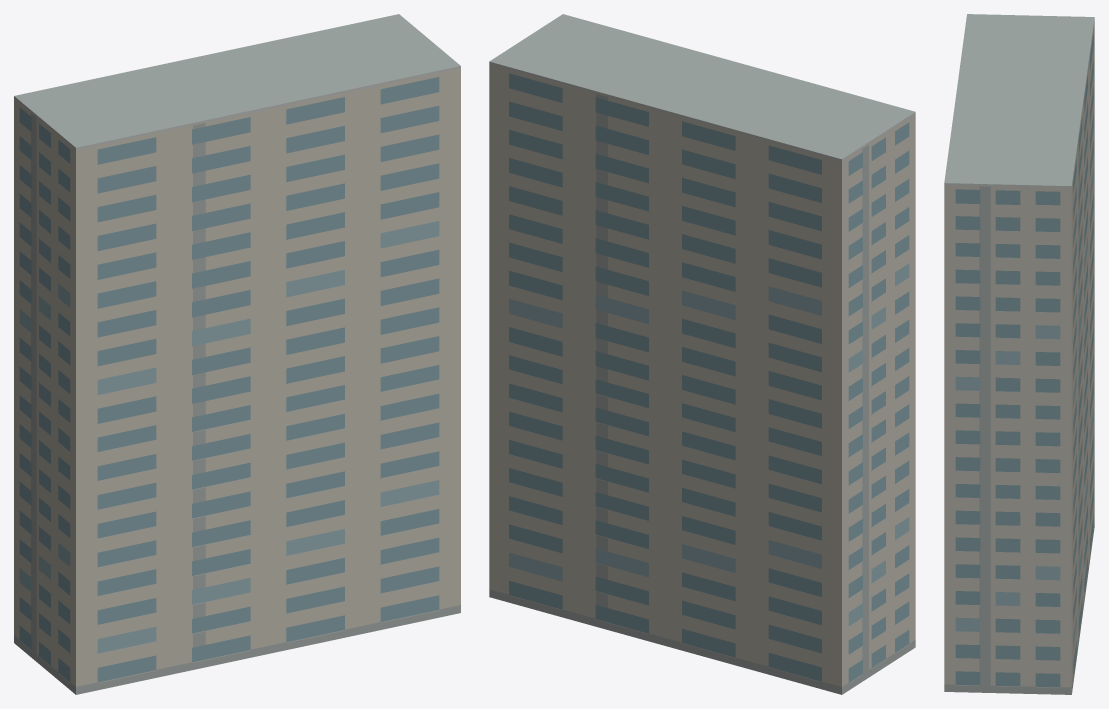
File: residential-a915a582-18c9-4395-8036-b7ee398e25f0.glb
3 renders of one model, left to right at view 1: azimuth 30°, elevation 25°; view 2: azimuth 150°, elevation 25°; view 3: azimuth 270°, elevation 25°, orthographic. The views are drawn at different scales.
Visible parts, largest first — view 1: residential-a915a582-18c9-4395-8036-b7ee398e25f0.tmp; view 2: residential-a915a582-18c9-4395-8036-b7ee398e25f0.tmp; view 3: residential-a915a582-18c9-4395-8036-b7ee398e25f0.tmp.
Boxes of the visible parts, x1=… form: residential-a915a582-18c9-4395-8036-b7ee398e25f0.tmp: x1=14, y1=14, x2=460, y2=694; residential-a915a582-18c9-4395-8036-b7ee398e25f0.tmp: x1=489, y1=14, x2=915, y2=694; residential-a915a582-18c9-4395-8036-b7ee398e25f0.tmp: x1=944, y1=14, x2=1094, y2=694.
Size of the model in its own units: 37.02 by 51 by 13.68.
